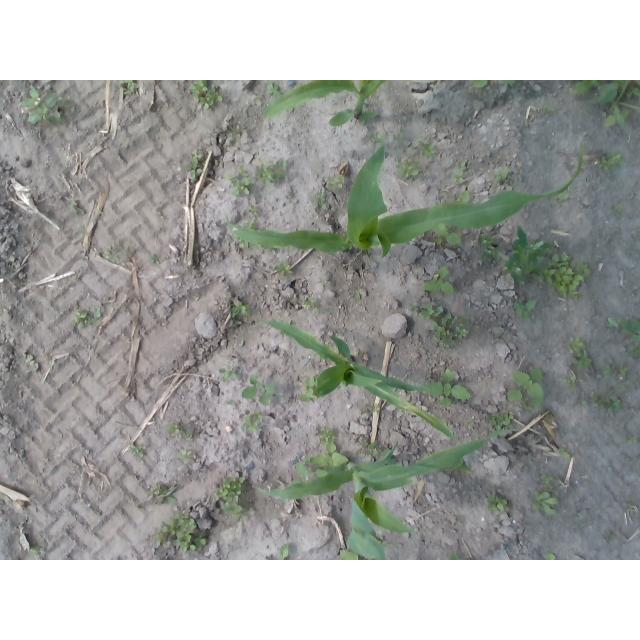Maize: (225, 125, 583, 259), (252, 432, 521, 561), (251, 320, 457, 440), (261, 81, 388, 128)
Weeds: (500, 225, 593, 300), (420, 304, 480, 348), (18, 85, 73, 127), (155, 511, 208, 553), (422, 368, 471, 405), (568, 80, 640, 104), (507, 369, 545, 412), (295, 452, 350, 477), (214, 476, 246, 516), (187, 81, 222, 112), (241, 375, 275, 406), (226, 164, 255, 196), (606, 315, 640, 341), (575, 394, 621, 413), (422, 267, 454, 294), (569, 337, 594, 371), (257, 160, 288, 184), (530, 489, 558, 515), (476, 232, 500, 261), (432, 223, 463, 245), (603, 105, 632, 128), (394, 157, 424, 179), (147, 484, 178, 505), (74, 307, 102, 329), (596, 151, 625, 171), (514, 299, 539, 322), (317, 426, 339, 452), (185, 149, 204, 179), (602, 363, 630, 381), (490, 412, 515, 432), (410, 139, 437, 157), (241, 411, 263, 433), (300, 377, 317, 403), (230, 300, 251, 321), (311, 189, 330, 212), (448, 457, 473, 473), (165, 423, 193, 437), (485, 494, 508, 511), (302, 296, 326, 312), (358, 439, 378, 458), (224, 126, 242, 147), (360, 104, 378, 125), (267, 544, 290, 560), (471, 80, 517, 88), (234, 237, 262, 250), (445, 189, 469, 203), (118, 81, 140, 96), (492, 166, 511, 183), (219, 366, 238, 382), (380, 448, 397, 465), (327, 175, 346, 190), (266, 82, 282, 99), (176, 449, 192, 464), (564, 375, 580, 390), (128, 443, 144, 458), (539, 475, 554, 490), (69, 201, 85, 215), (274, 262, 290, 275), (368, 131, 384, 144), (239, 219, 257, 230), (27, 547, 45, 556), (557, 190, 570, 202), (557, 447, 571, 458), (105, 252, 120, 262), (541, 104, 557, 113), (392, 131, 404, 142), (627, 435, 638, 446), (453, 172, 464, 183), (247, 204, 257, 216), (630, 344, 640, 356), (457, 161, 468, 171), (448, 552, 460, 561), (408, 304, 419, 313), (615, 204, 625, 213), (148, 253, 157, 263), (369, 404, 380, 412), (546, 552, 556, 560), (465, 420, 473, 429), (226, 401, 235, 406), (355, 294, 361, 301)
